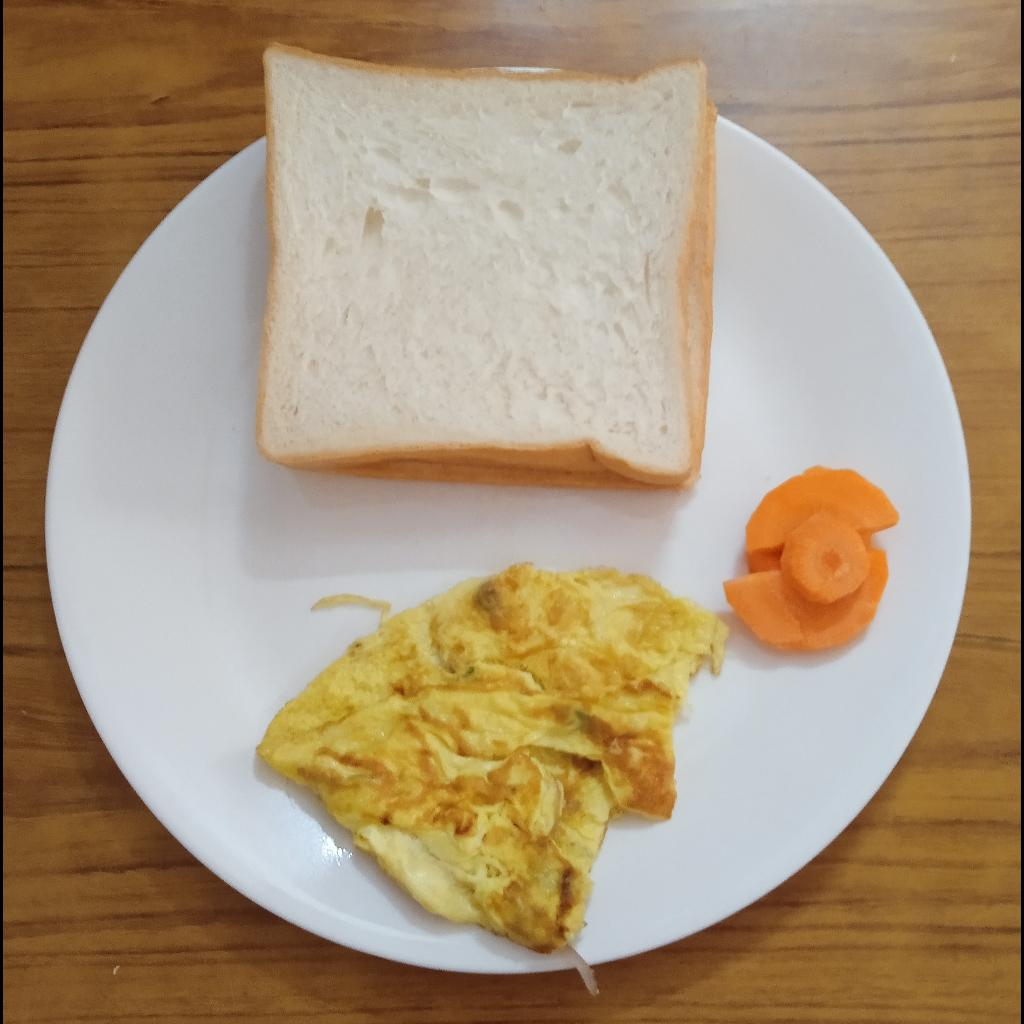bread: (254, 40, 716, 488)
carrot: (725, 465, 902, 650)
egg-poached: (253, 558, 733, 949)
